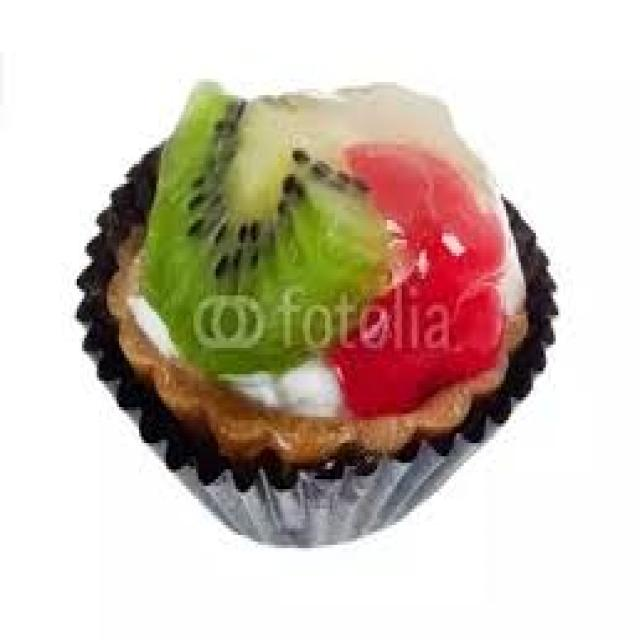Organik: (107, 73, 546, 547)
